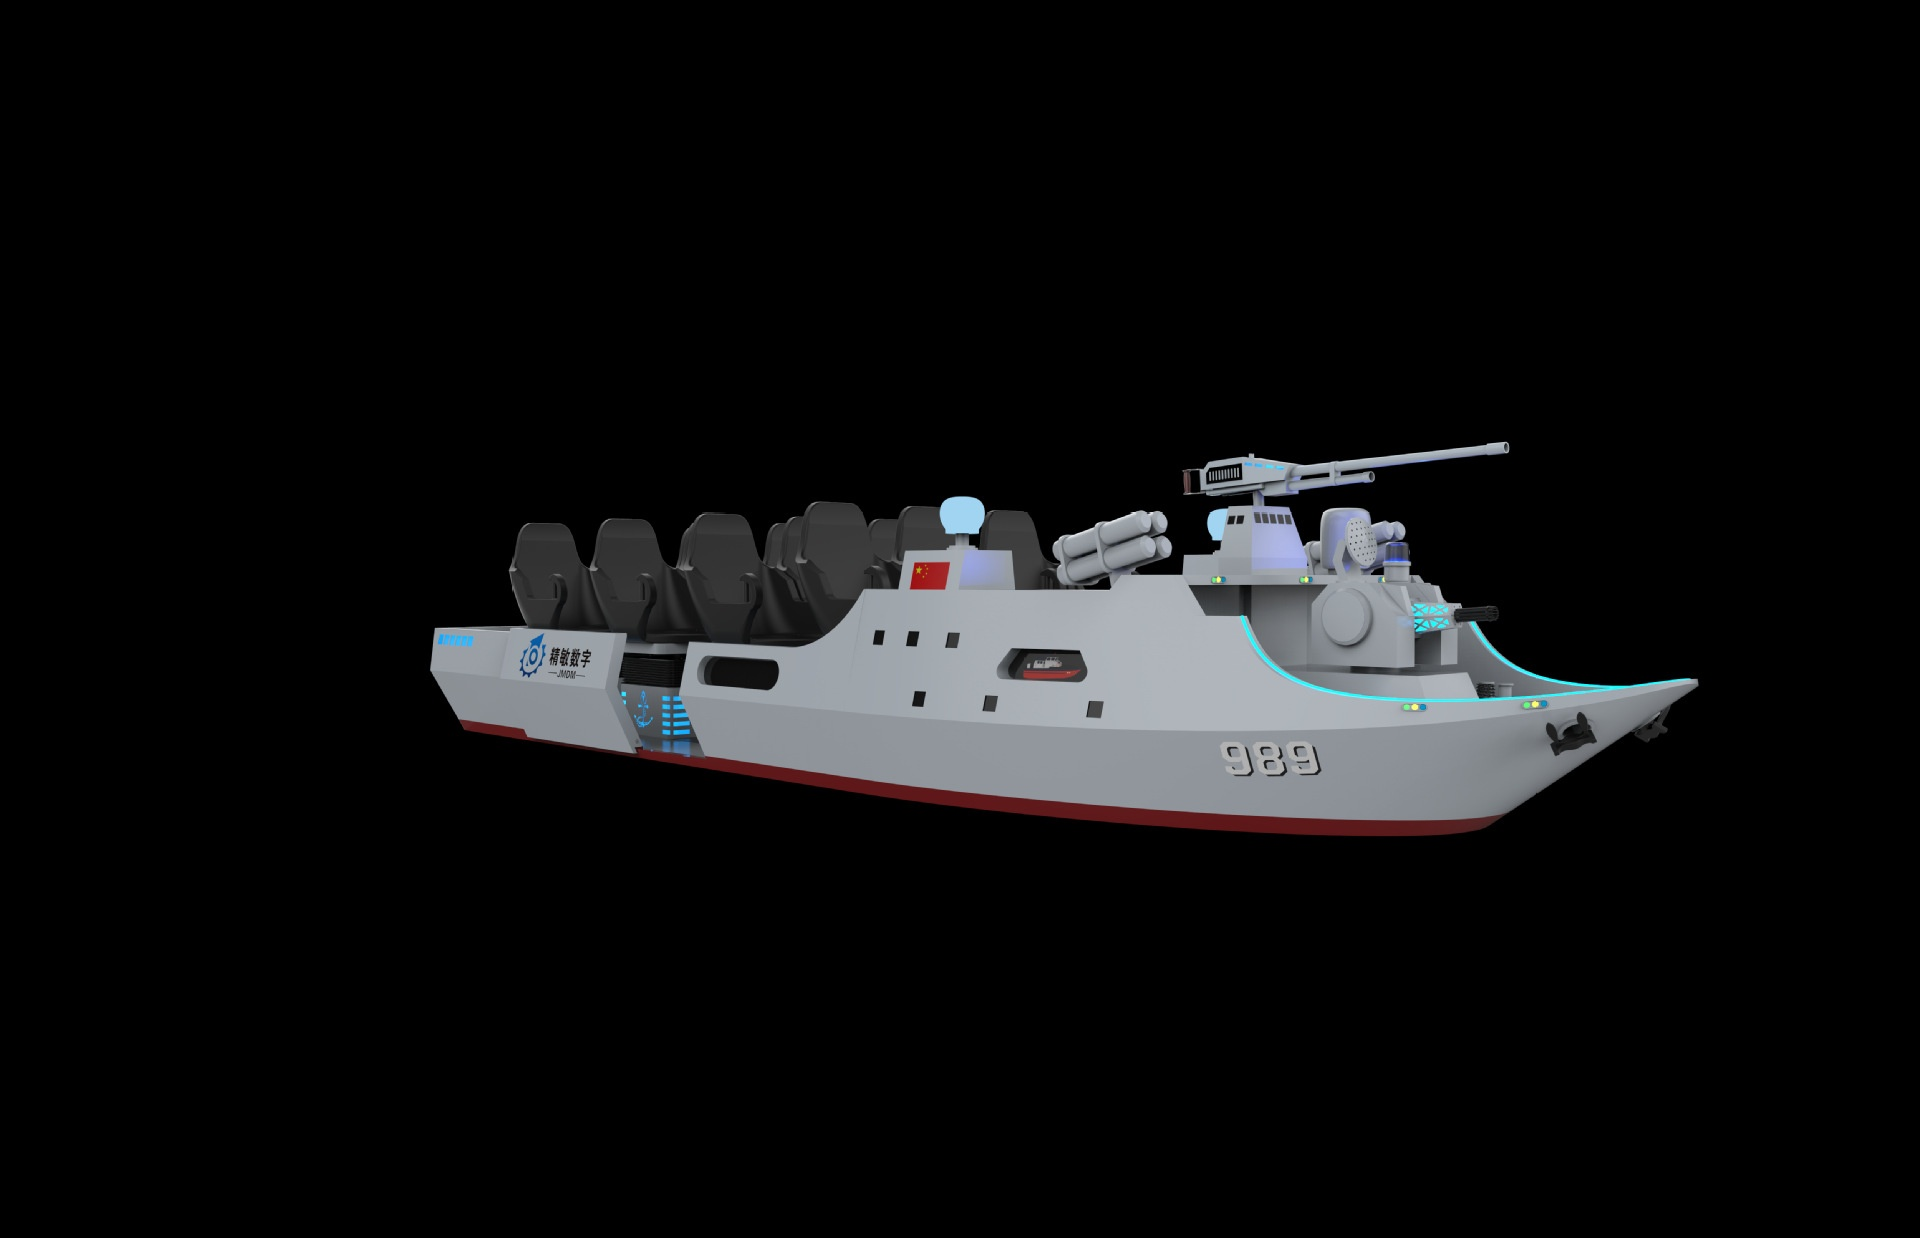warship: (413, 406, 1692, 837)
